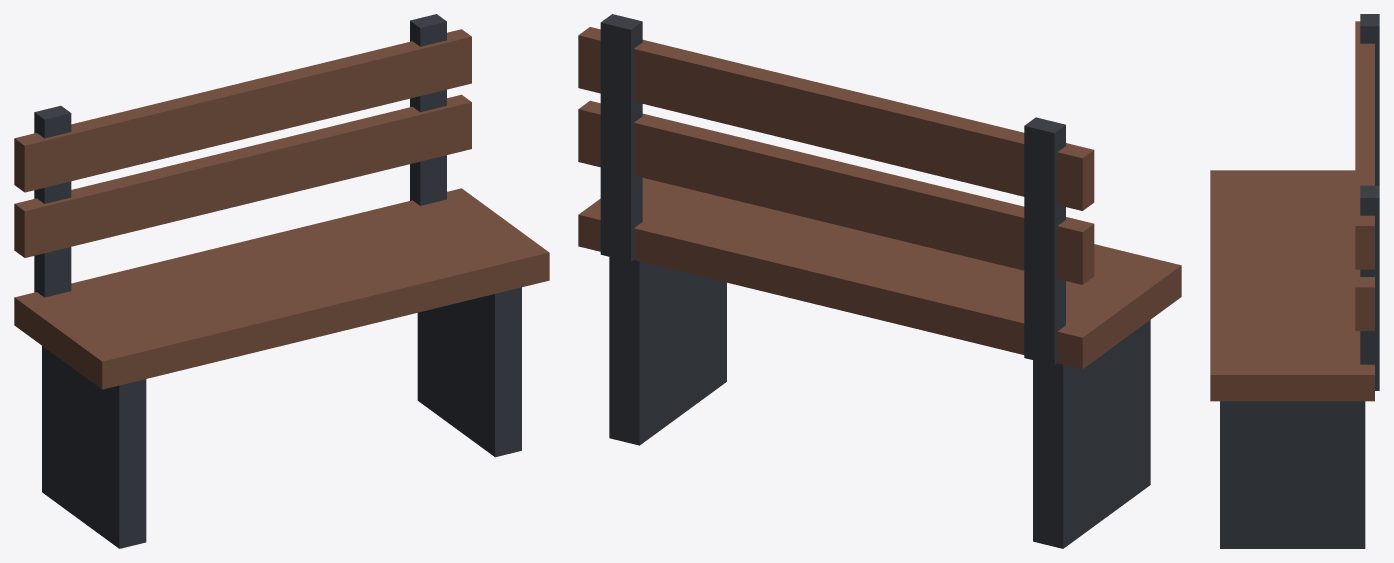
File: P_Bench2.fbx
The picture shows the model from 3 angles, left to right: view 1: azimuth 30°, elevation 25°; view 2: azimuth 150°, elevation 25°; view 3: azimuth 270°, elevation 25°; orthographic projection. The views are drawn at different scales.
Parts seen in each view (by area): view 1: P_Bench2; view 2: P_Bench2; view 3: P_Bench2.
Part boxes in pixels (left/top/right/bottom): P_Bench2: left=14, top=14, right=549, bottom=548; P_Bench2: left=578, top=14, right=1181, bottom=548; P_Bench2: left=1210, top=14, right=1379, bottom=548.
Bounding box in the file's own units: 1 × 0.8 × 0.35.
